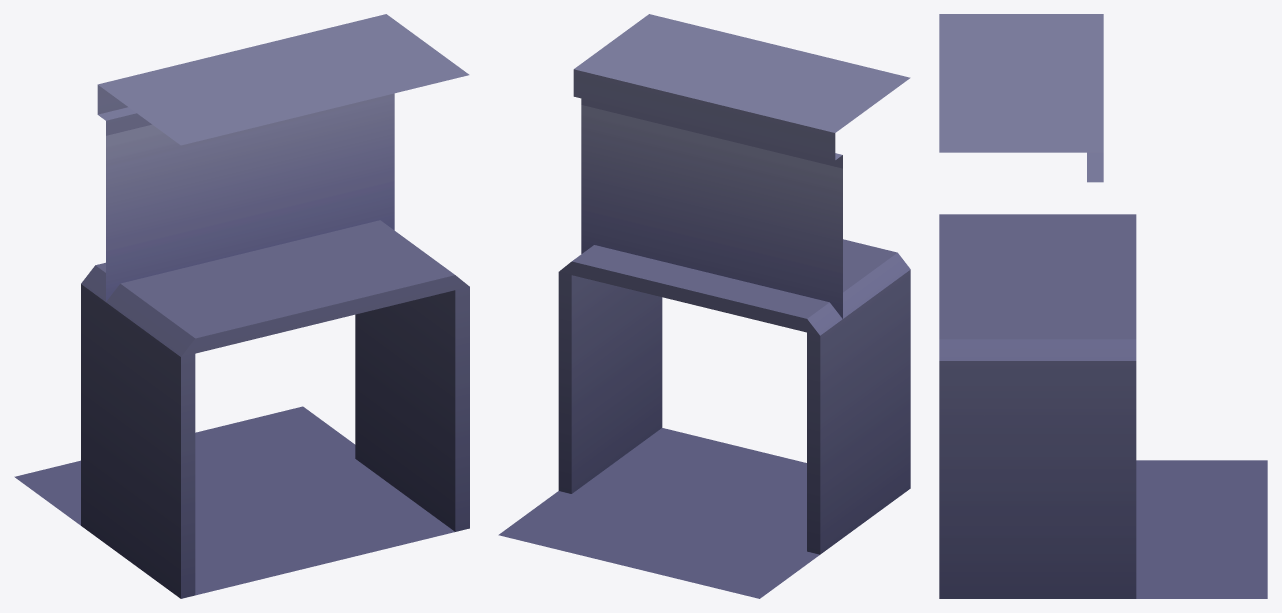
Rendered from kenney-factory-structure-doorway-wide.glb.
The picture shows the model from 3 angles, left to right: view 1: azimuth 30°, elevation 25°; view 2: azimuth 150°, elevation 25°; view 3: azimuth 270°, elevation 25°; orthographic projection. The views are drawn at different scales.
Parts seen in each view (by area): view 1: structure-doorway-wide; view 2: structure-doorway-wide; view 3: structure-doorway-wide.
Part boxes in pixels (x1,y1,x2,y2): structure-doorway-wide: (14, 14, 469, 598); structure-doorway-wide: (498, 14, 910, 598); structure-doorway-wide: (939, 14, 1267, 598).
Size of the model in its own units: 2 by 3 by 2.
1 material, 1 textured.
